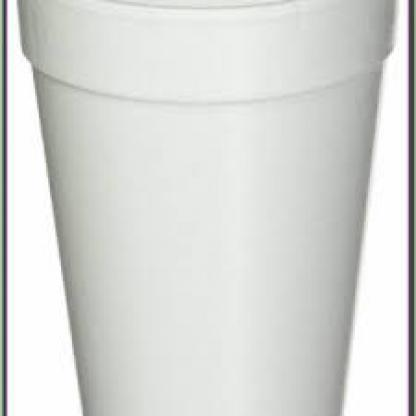paper: (15, 0, 396, 414)
